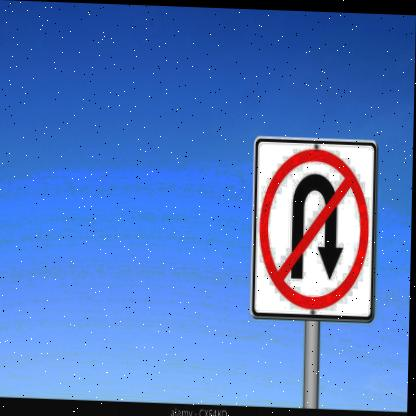No U-turn: (253, 140, 378, 314)
